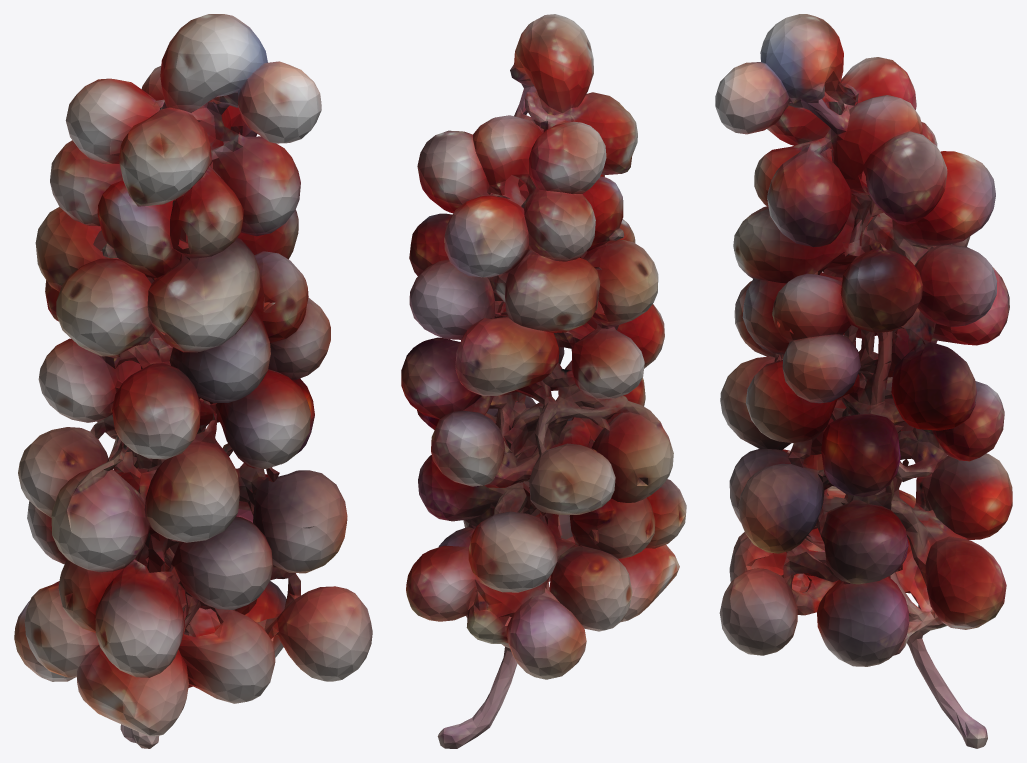
File: grapes.glb
3 renders of one model, left to right at view 1: azimuth 30°, elevation 25°; view 2: azimuth 150°, elevation 25°; view 3: azimuth 270°, elevation 25°, orthographic. The views are drawn at different scales.
Visible parts, largest first — view 1: world.030; view 2: world.030; view 3: world.030.
Boxes of the visible parts, x1=… form: world.030: x1=14, y1=14, x2=372, y2=748; world.030: x1=401, y1=14, x2=686, y2=748; world.030: x1=715, y1=14, x2=1012, y2=748.
Size of the model in its own units: 0.3604 by 1 by 0.3768.
Materials: 1 (1 with a texture image).
